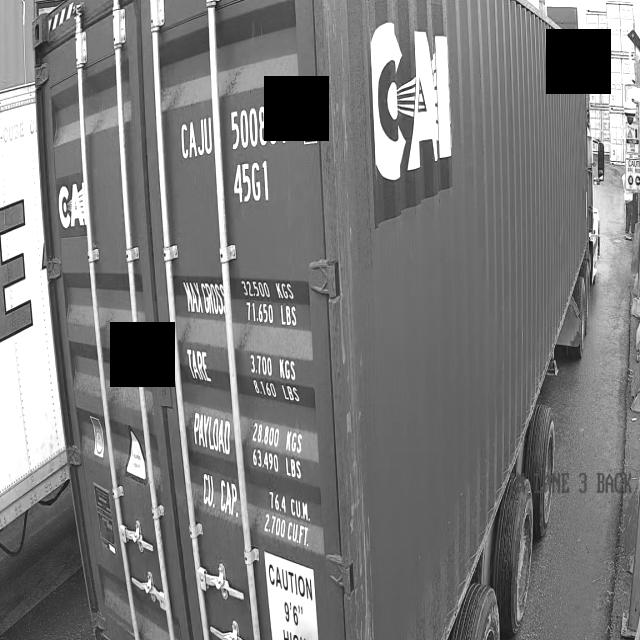container_company_logo: (348, 0, 480, 234), (582, 565, 591, 565)
container_number: (164, 94, 320, 640)
driver: (591, 218, 612, 341)
truck_with_container: (0, 0, 594, 640)
